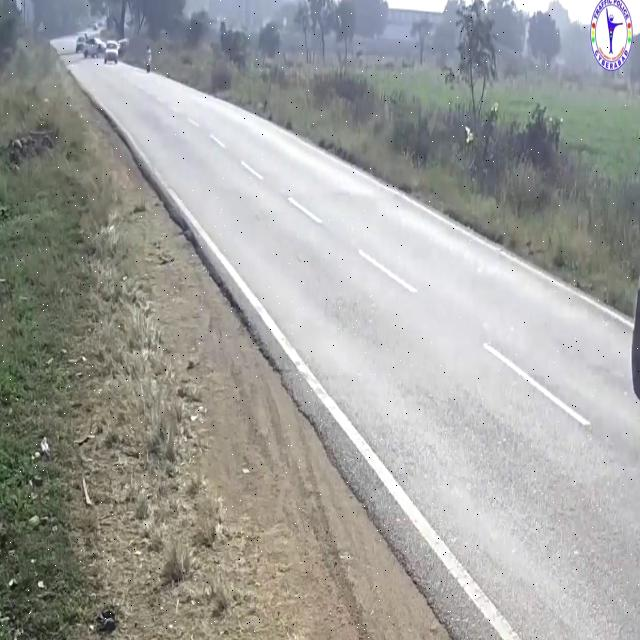accident: (78, 30, 122, 68)
